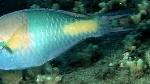Scaridae -Parrotfishes-: (0, 5, 137, 72)
